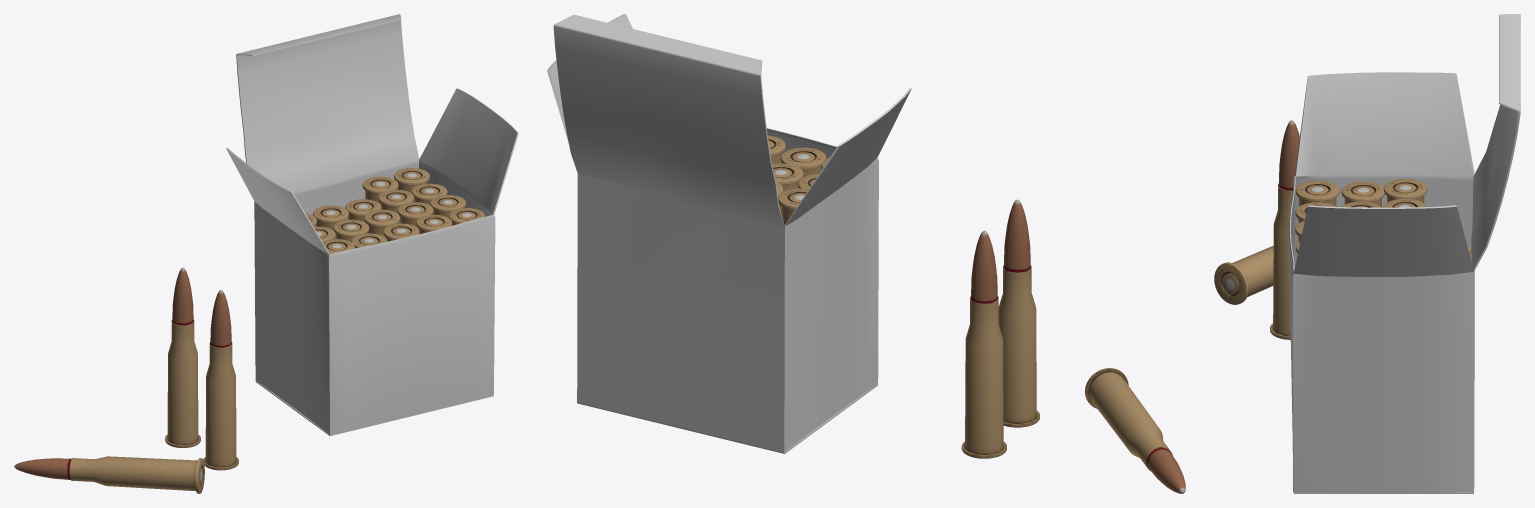
File: bullets-box-7-62.fbx
The picture shows the model from 3 angles, left to right: view 1: azimuth 30°, elevation 25°; view 2: azimuth 150°, elevation 25°; view 3: azimuth 270°, elevation 25°; orthographic projection. The views are drawn at different scales.
Visible parts, largest first — view 1: Bullets box, Bullet 7.62x54mm.004, Bullet 7.62x54mm, Bullet 7.62x54mm.003, Bullet 7.62x54mm array.007, Bullet 7.62x54mm array.013, Bullet 7.62x54mm array.016, Bullet 7.62x54mm array.006, Bullet 7.62x54mm array.001, Bullet 7.62x54mm array.011, Bullet 7.62x54mm array.008, Bullet 7.62x54mm array.005 (+1 smaller); view 2: Bullets box, Bullet 7.62x54mm.003, Bullet 7.62x54mm, Bullet 7.62x54mm.004, Bullet 7.62x54mm array.003; view 3: Bullets box, Bullet 7.62x54mm, Bullet 7.62x54mm.004, Bullet 7.62x54mm array.004, Bullet 7.62x54mm array.009, Bullet 7.62x54mm array.014.
Boxes of the visible parts, left/top/right/bottom form: Bullets box: left=226, top=14, right=518, bottom=435; Bullet 7.62x54mm.004: left=14, top=456, right=204, bottom=493; Bullet 7.62x54mm: left=203, top=290, right=238, bottom=470; Bullet 7.62x54mm.003: left=165, top=267, right=200, bottom=447; Bullet 7.62x54mm array.007: left=364, top=209, right=400, bottom=238; Bullet 7.62x54mm array.013: left=313, top=205, right=348, bottom=239; Bullet 7.62x54mm array.016: left=394, top=168, right=429, bottom=202; Bullet 7.62x54mm array.006: left=397, top=202, right=433, bottom=229; Bullet 7.62x54mm array.001: left=362, top=176, right=398, bottom=205; Bullet 7.62x54mm array.011: left=378, top=189, right=414, bottom=223; Bullet 7.62x54mm array.008: left=333, top=219, right=369, bottom=241; Bullet 7.62x54mm array.005: left=430, top=195, right=465, bottom=217; Bullets box: left=547, top=14, right=911, bottom=453; Bullet 7.62x54mm.003: left=961, top=230, right=1006, bottom=458; Bullet 7.62x54mm: left=998, top=199, right=1039, bottom=427; Bullet 7.62x54mm.004: left=1085, top=368, right=1185, bottom=493; Bullet 7.62x54mm array.003: left=781, top=147, right=826, bottom=177; Bullets box: left=1288, top=14, right=1520, bottom=493; Bullet 7.62x54mm: left=1270, top=120, right=1299, bottom=339; Bullet 7.62x54mm.004: left=1214, top=245, right=1273, bottom=304; Bullet 7.62x54mm array.004: left=1295, top=180, right=1339, bottom=206; Bullet 7.62x54mm array.009: left=1341, top=181, right=1384, bottom=207; Bullet 7.62x54mm array.014: left=1383, top=179, right=1427, bottom=202.
Bounding box in the file's own units: 22.2 × 14.11 × 10.14.
